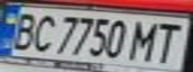0: (103, 17, 133, 60)
5: (87, 15, 112, 58)
7: (51, 12, 78, 55), (69, 15, 93, 56)
B: (3, 9, 42, 52)
C: (24, 11, 60, 53)
M: (124, 18, 166, 62)
T: (148, 19, 190, 64)
